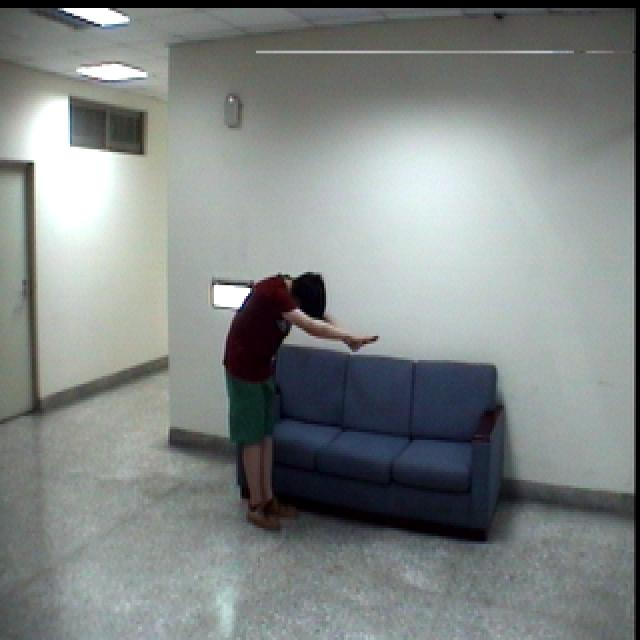bend: (218, 261, 385, 535)
